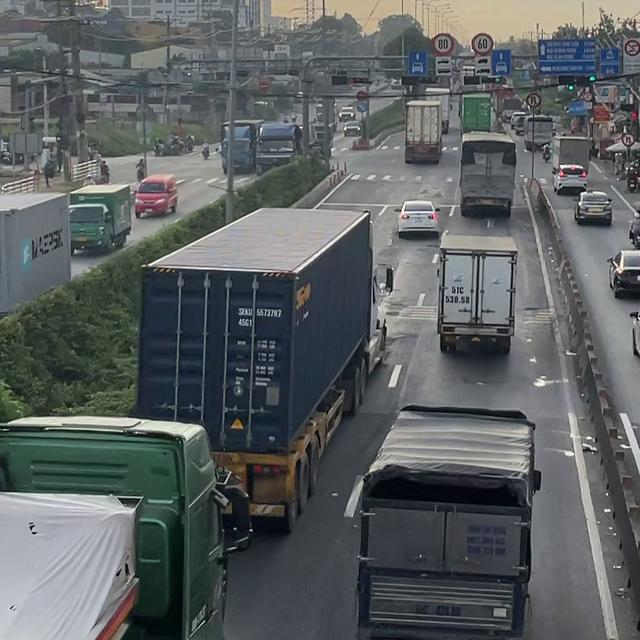car: (134, 173, 177, 218), (394, 199, 440, 237), (606, 249, 639, 298), (573, 190, 612, 225), (552, 163, 588, 193), (629, 310, 639, 357), (343, 120, 362, 136), (338, 106, 355, 121)
motorcycle: (626, 171, 639, 192), (541, 143, 552, 162)
truck: (134, 205, 393, 532), (0, 414, 252, 639), (343, 403, 541, 639), (435, 230, 518, 355), (0, 190, 71, 317), (459, 130, 516, 217), (68, 183, 132, 254), (254, 121, 303, 175), (550, 133, 592, 193), (404, 99, 442, 164), (219, 118, 263, 174), (460, 92, 492, 133), (424, 87, 450, 133), (523, 115, 553, 151), (501, 97, 522, 121)
